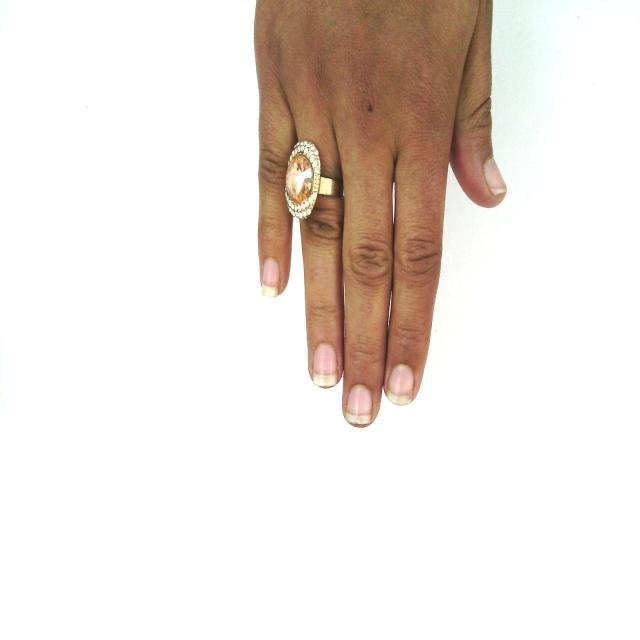Fingernail: (312, 344, 338, 387), (386, 365, 414, 404), (345, 386, 373, 425), (484, 158, 506, 194), (262, 258, 280, 298)
